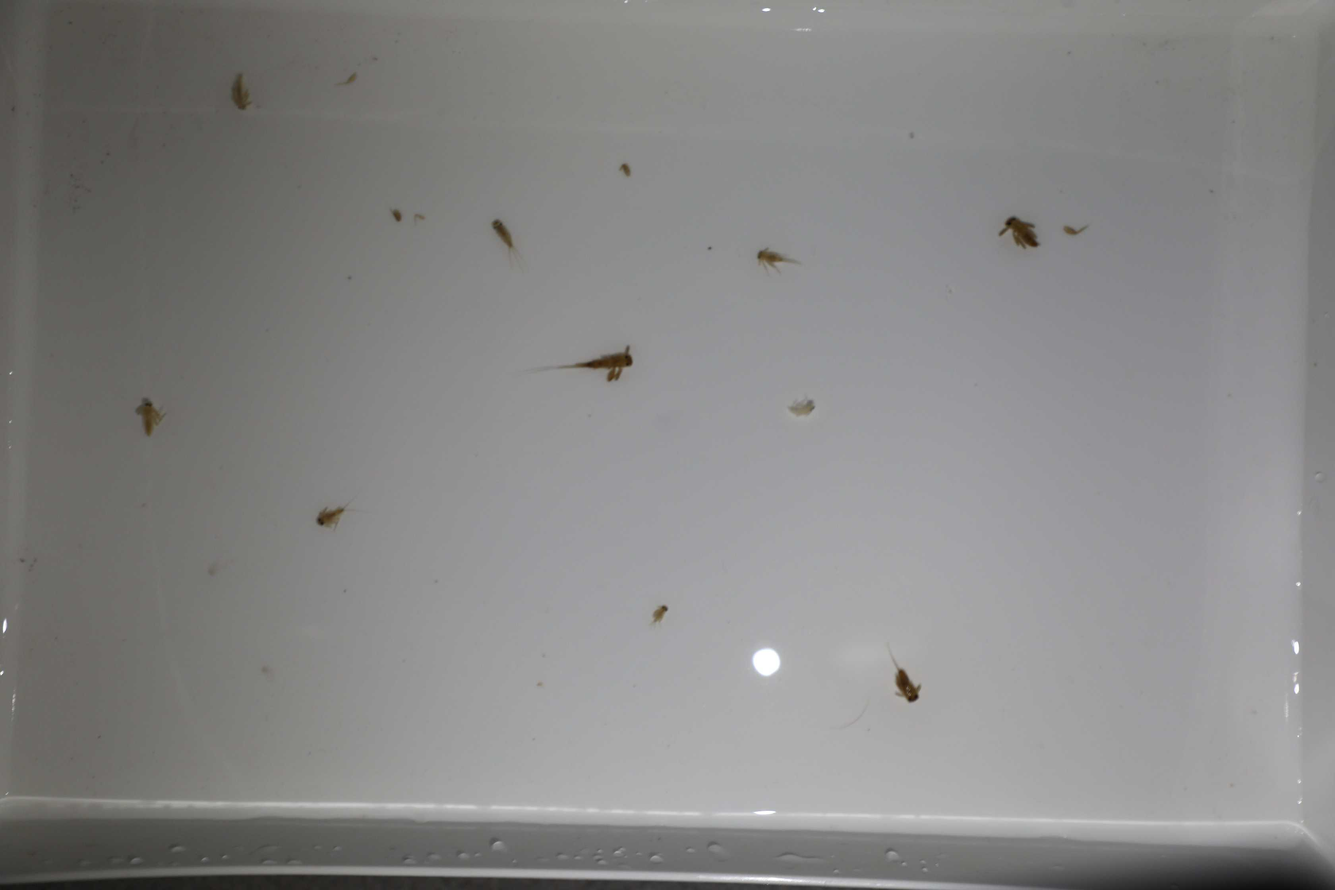Mayfly: (520, 340, 637, 386), (880, 637, 926, 713), (991, 211, 1047, 259), (745, 239, 812, 277), (129, 391, 165, 444), (489, 216, 528, 261), (310, 499, 353, 530), (228, 66, 254, 114), (781, 389, 817, 420), (647, 601, 672, 626)
